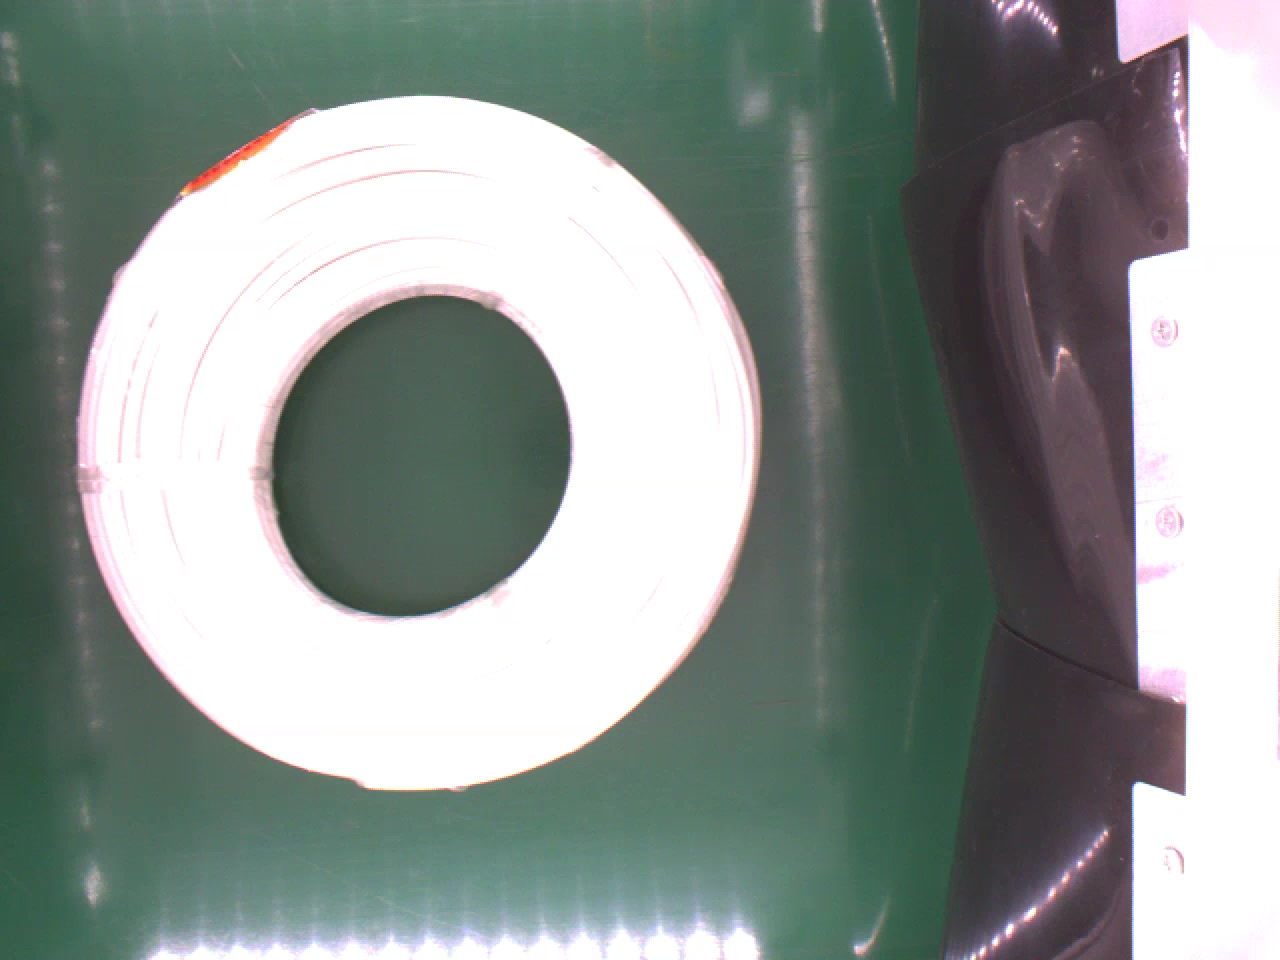white: (69, 92, 761, 801)
